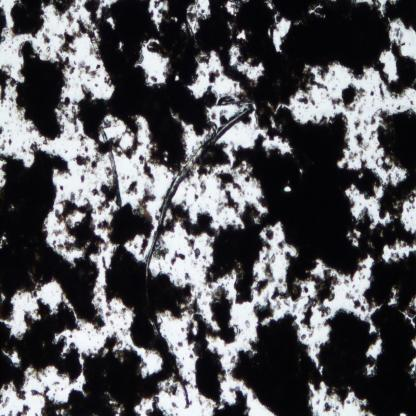Background material: (255, 105, 379, 308), (87, 2, 222, 169), (222, 0, 392, 116), (0, 147, 107, 325), (318, 302, 416, 414), (37, 340, 170, 415), (231, 307, 322, 415), (0, 298, 85, 398), (0, 43, 81, 144), (203, 201, 282, 300), (190, 282, 236, 404), (370, 109, 416, 229), (351, 245, 416, 317), (148, 247, 202, 325), (203, 141, 258, 208), (354, 206, 416, 264), (55, 198, 110, 262), (102, 190, 156, 253), (8, 0, 76, 40), (57, 0, 103, 56), (384, 37, 416, 99), (381, 0, 416, 38), (330, 80, 367, 112), (216, 173, 243, 213), (217, 389, 251, 416), (136, 148, 156, 192), (60, 60, 98, 78), (352, 119, 370, 152), (74, 153, 98, 175), (8, 400, 32, 416), (0, 4, 8, 48), (124, 180, 141, 198), (188, 240, 201, 263), (298, 92, 316, 108), (171, 251, 185, 267), (208, 68, 221, 83), (0, 139, 12, 154), (73, 175, 86, 184), (174, 340, 184, 350), (182, 269, 191, 280), (92, 186, 100, 198)
Cellulose filter fibre: (81, 85, 122, 206), (167, 200, 217, 244)
Microfibre: (142, 104, 254, 345)
